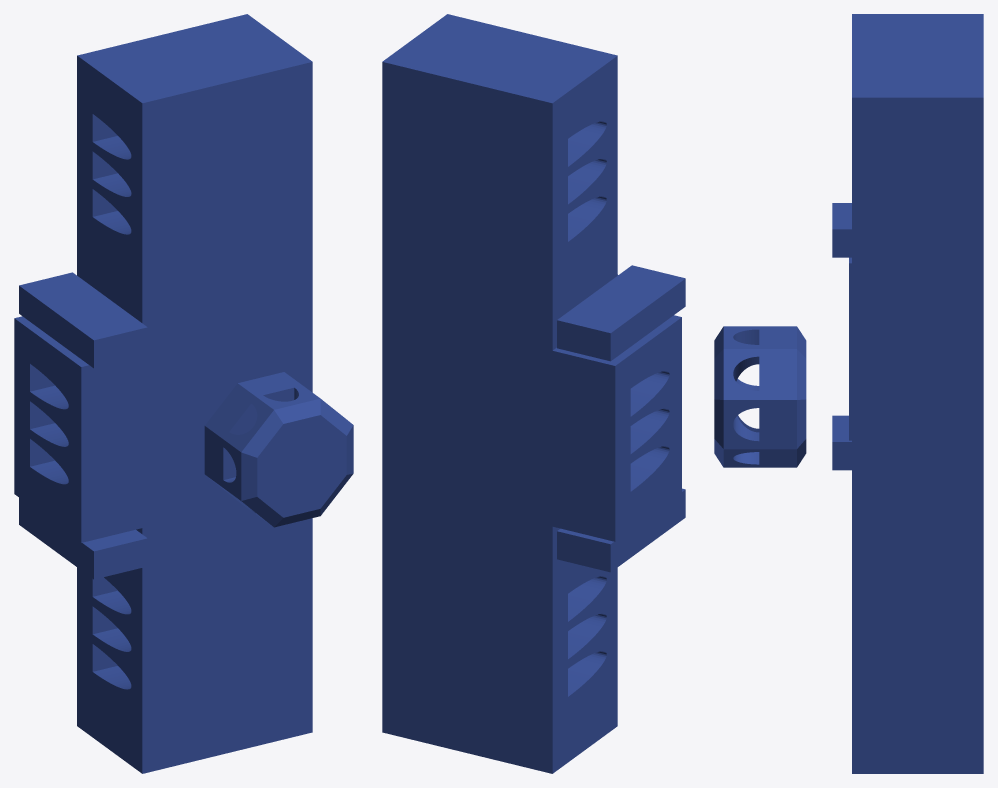
File: powell3.obj
The picture shows the model from 3 angles, left to right: view 1: azimuth 30°, elevation 25°; view 2: azimuth 150°, elevation 25°; view 3: azimuth 270°, elevation 25°; orthographic projection.
Visible parts, largest first — view 1: obj_0; view 2: obj_0; view 3: obj_0.
Boxes of the visible parts, x1,y1,x2,y2 form: obj_0: [14, 14, 353, 773]; obj_0: [382, 14, 685, 773]; obj_0: [714, 14, 983, 773].
Size of the model in its own units: 52 by 143 by 51.64.
